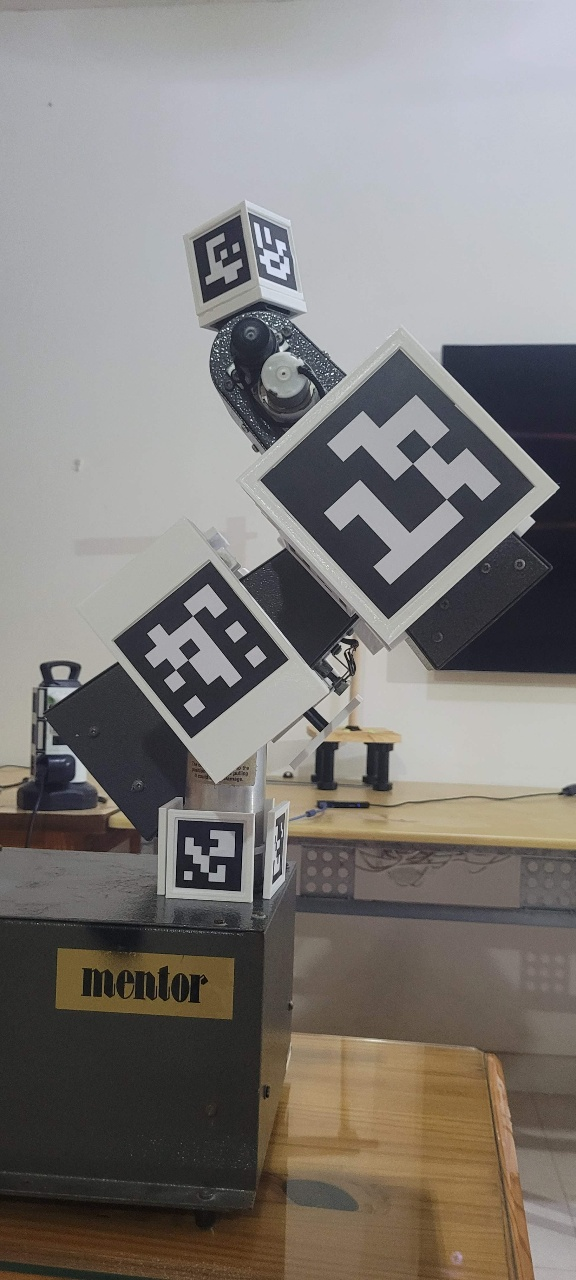Robot: (42, 198, 565, 904)
